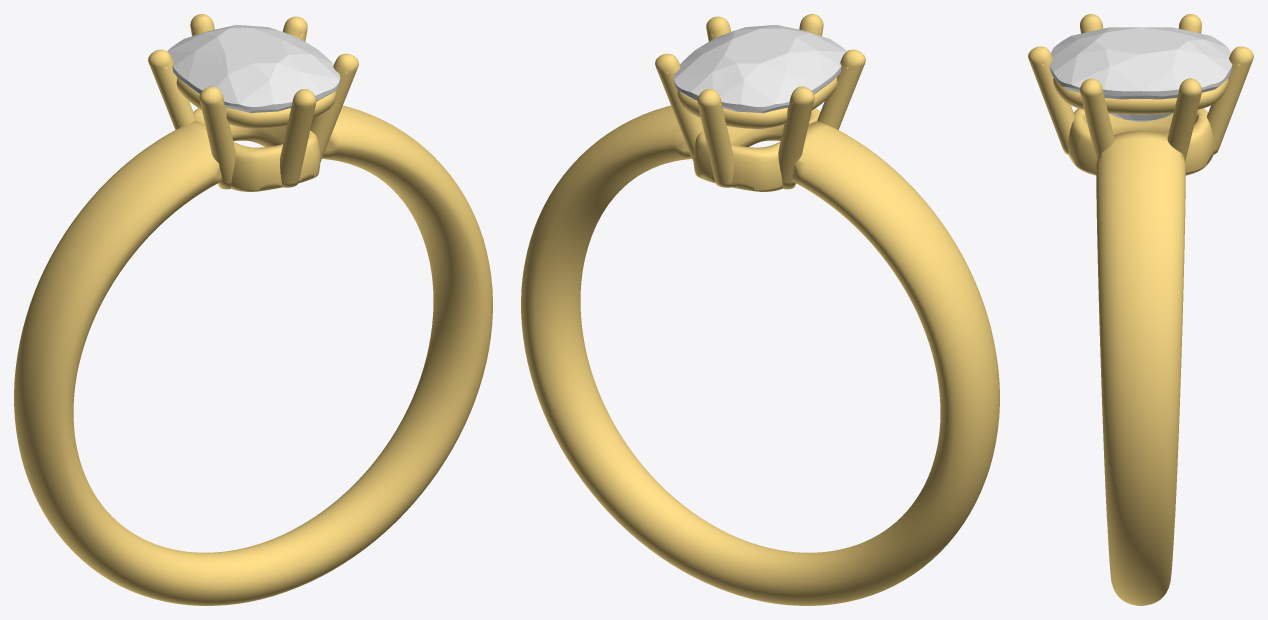
Rendered from diamond-cushion-yellowgold-6prong-taperedband-nosidestones.glb.
3 views of the same model, side by side, from view 1: azimuth 30°, elevation 25°; view 2: azimuth 150°, elevation 25°; view 3: azimuth 270°, elevation 25° (orthographic). The views are drawn at different scales.
Visible parts, largest first — view 1: metal.002, stone; view 2: metal.002, stone; view 3: metal.002, stone.
Part boxes in pixels (bbox=[...]): metal.002: bbox=[14, 14, 492, 605]; stone: bbox=[167, 25, 340, 129]; metal.002: bbox=[521, 14, 999, 605]; stone: bbox=[673, 25, 846, 129]; metal.002: bbox=[1028, 14, 1253, 605]; stone: bbox=[1049, 27, 1232, 121].
Size of the model in its own units: 20.49 by 23.24 by 8.8.
